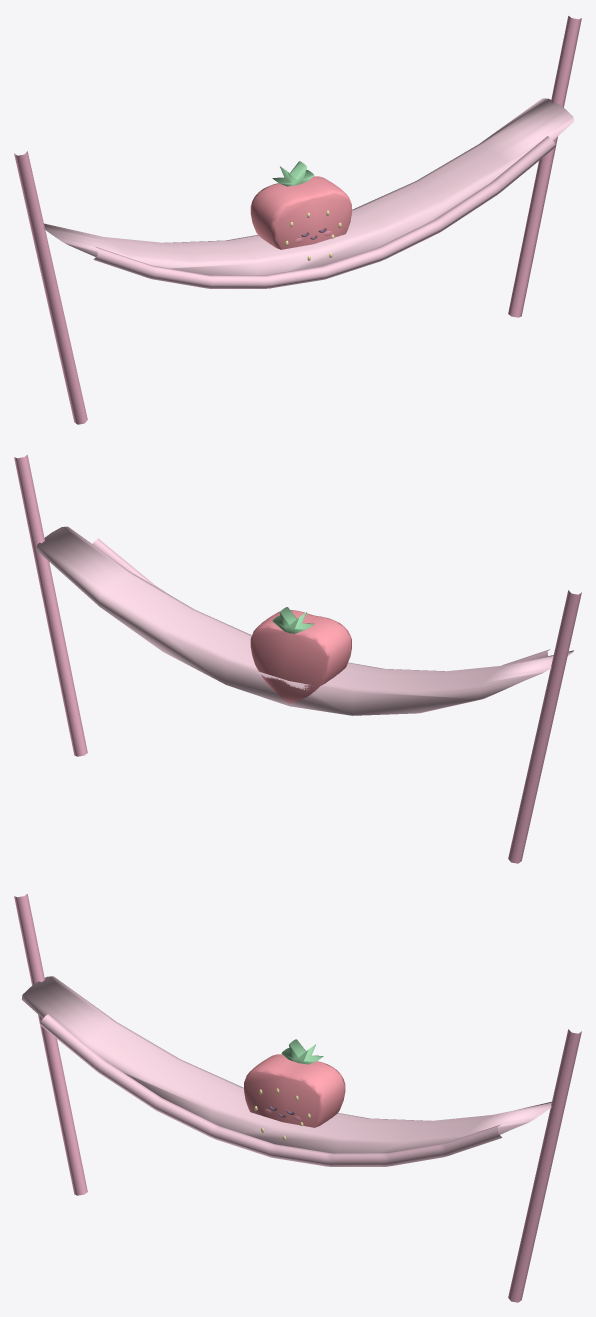
File: decor_4_candy.glb
3 renders of one model, top to bottom at view 1: azimuth 30°, elevation 25°; view 2: azimuth 150°, elevation 25°; view 3: azimuth 330°, elevation 25°, orthographic.
Visible parts, largest first — view 1: decor_4_candy; view 2: decor_4_candy; view 3: decor_4_candy.
Boxes of the visible parts, x1=… form: decor_4_candy: x1=14, y1=16, x2=581, y2=424; decor_4_candy: x1=14, y1=455, x2=581, y2=863; decor_4_candy: x1=14, y1=894, x2=581, y2=1302.
Size of the model in its own units: 18.74 by 9.08 by 2.14.
